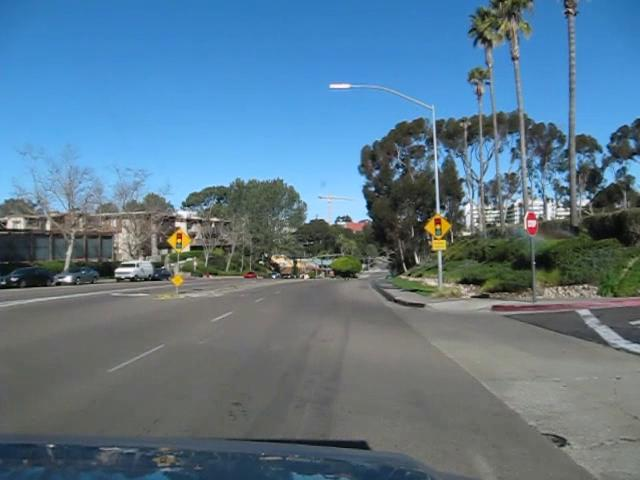signalAhead: (423, 212, 451, 240), (169, 226, 191, 250)
stop: (521, 210, 538, 233)
